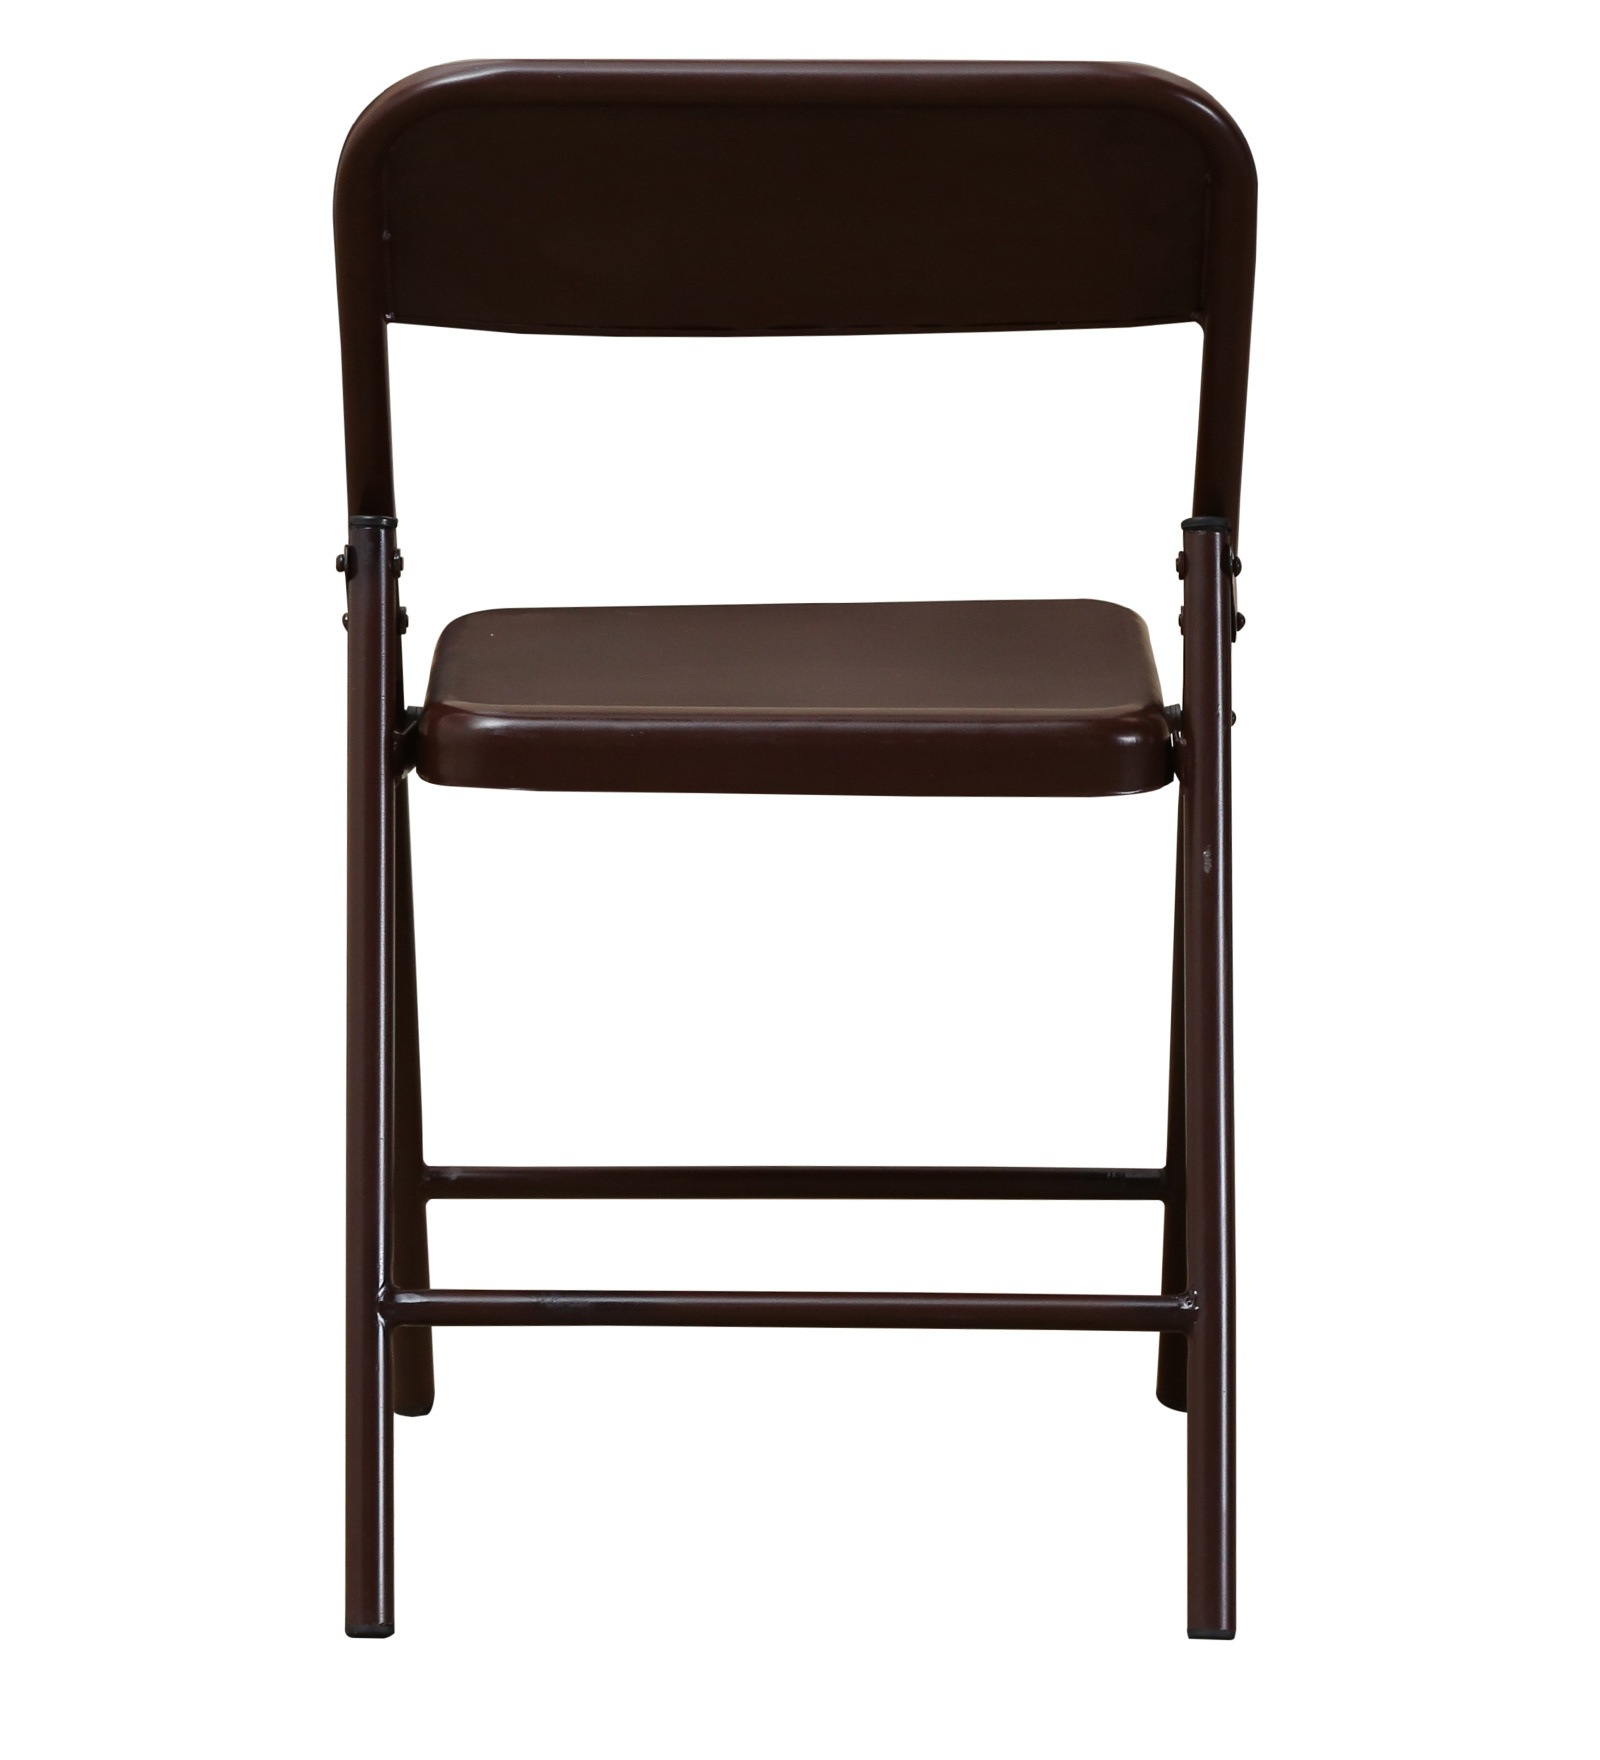Kell Folding Chair in Brown Color by Bohemiana: (267, 31, 1330, 1693)
